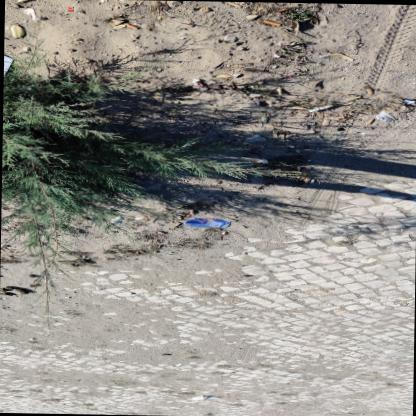Metal: (183, 217, 229, 227)
Paper: (191, 394, 218, 399), (261, 18, 279, 25), (363, 85, 373, 93), (125, 22, 138, 28), (322, 115, 343, 118), (320, 118, 329, 125), (255, 158, 267, 162), (136, 215, 146, 218), (303, 177, 309, 182), (173, 221, 180, 225), (256, 157, 264, 160), (309, 178, 314, 182), (189, 208, 192, 213), (151, 249, 156, 252)
Plastic: (403, 98, 414, 103)
Waste: (18, 7, 35, 22), (306, 104, 333, 111), (375, 110, 393, 120), (191, 78, 205, 90), (144, 382, 150, 383)
